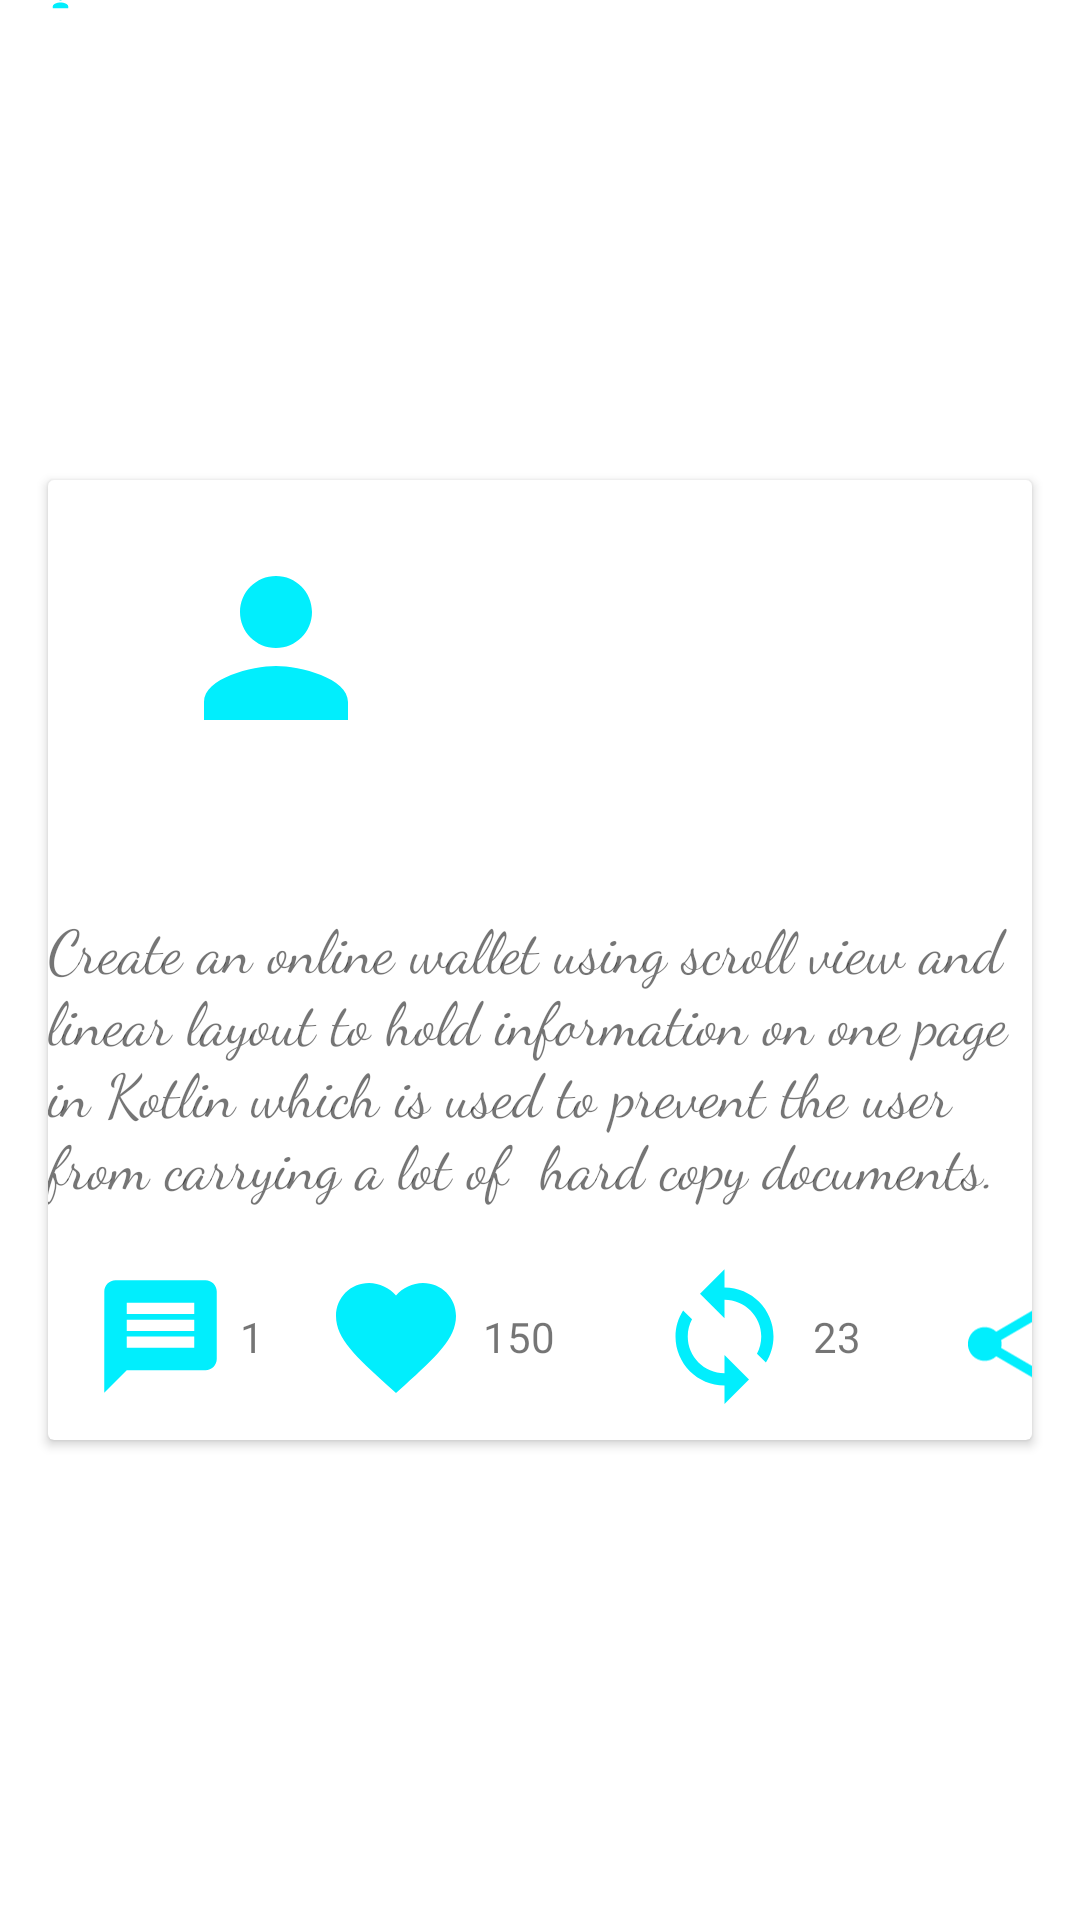

Icons on this 1080 × 1920 Android screen, each with the point to tap as point (x, y):
favorite: point (396, 1338)
loop: point (724, 1336)
message: point (160, 1336)
